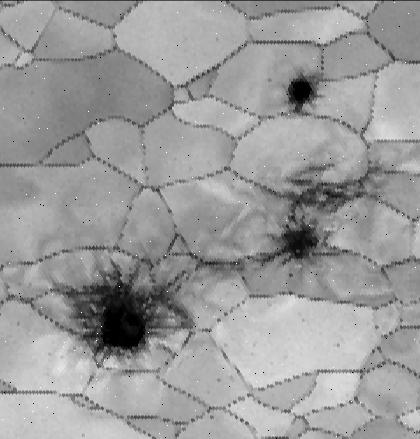good_void: (44, 244, 212, 376), (252, 159, 383, 268), (286, 65, 334, 119), (213, 375, 224, 383), (207, 413, 217, 420), (333, 341, 341, 349), (266, 76, 274, 83), (286, 271, 293, 278)
